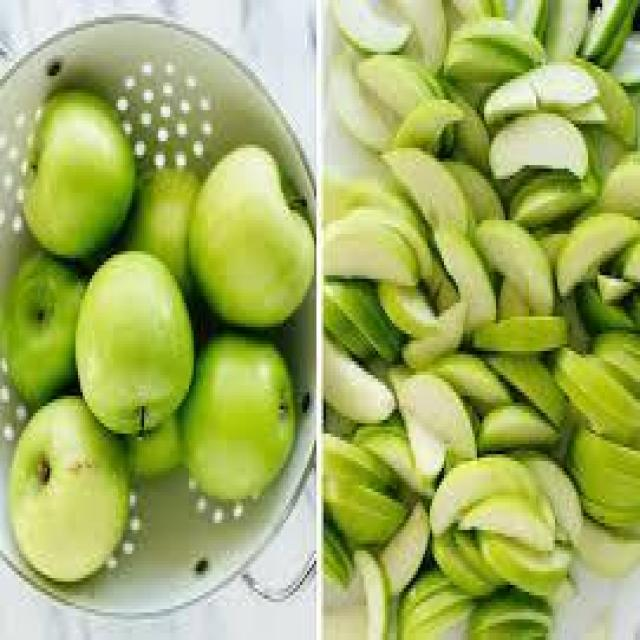maca: (321, 0, 638, 637), (2, 79, 312, 585)
